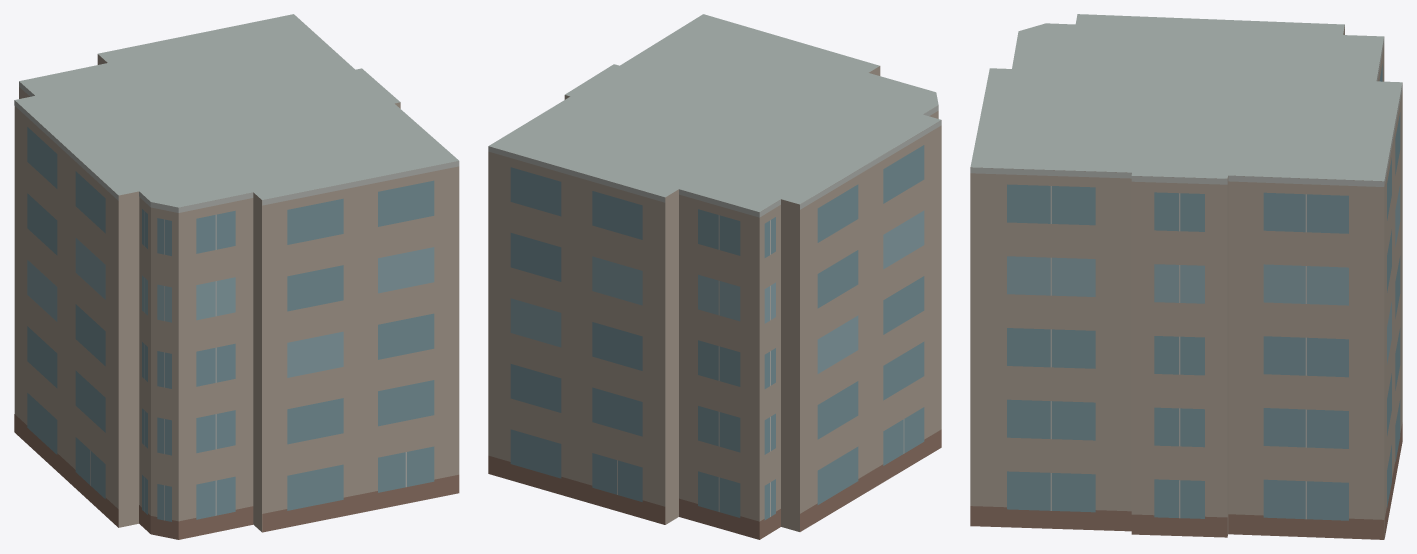
File: survey-upis-32654234.glb
3 renders of one model, left to right at view 1: azimuth 30°, elevation 25°; view 2: azimuth 150°, elevation 25°; view 3: azimuth 270°, elevation 25°, orthographic. The views are drawn at different scales.
Parts seen in each view (by area): view 1: survey-upis-32654234.tmp; view 2: survey-upis-32654234.tmp; view 3: survey-upis-32654234.tmp.
Part boxes in pixels (<box>): survey-upis-32654234.tmp: <box>14,14,459,539</box>; survey-upis-32654234.tmp: <box>488,14,941,539</box>; survey-upis-32654234.tmp: <box>970,14,1402,539</box>.
Bounding box in the file's own units: 14.76 × 14.75 × 16.12.
